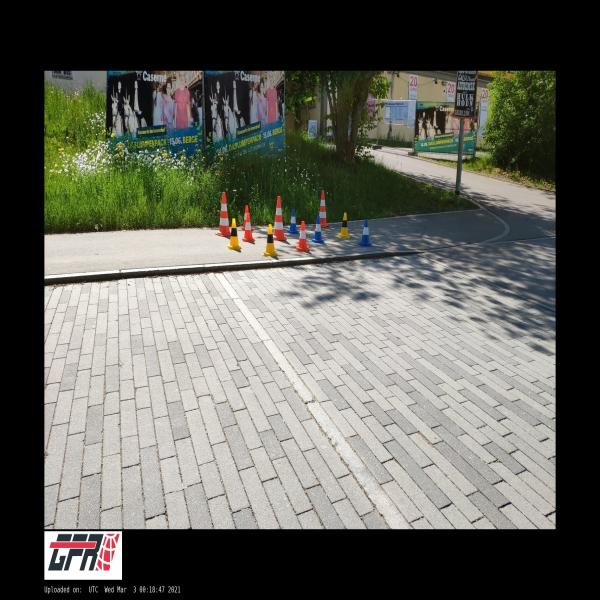blue_cone: (358, 219, 372, 247), (312, 216, 324, 243), (288, 209, 299, 234)
large_orange_cone: (215, 192, 230, 236), (273, 196, 287, 241), (314, 190, 329, 227)
orange_cone: (296, 221, 310, 252), (242, 214, 255, 242), (242, 205, 252, 231)
yellow_cone: (261, 224, 279, 256), (226, 218, 242, 250), (338, 212, 351, 238)
